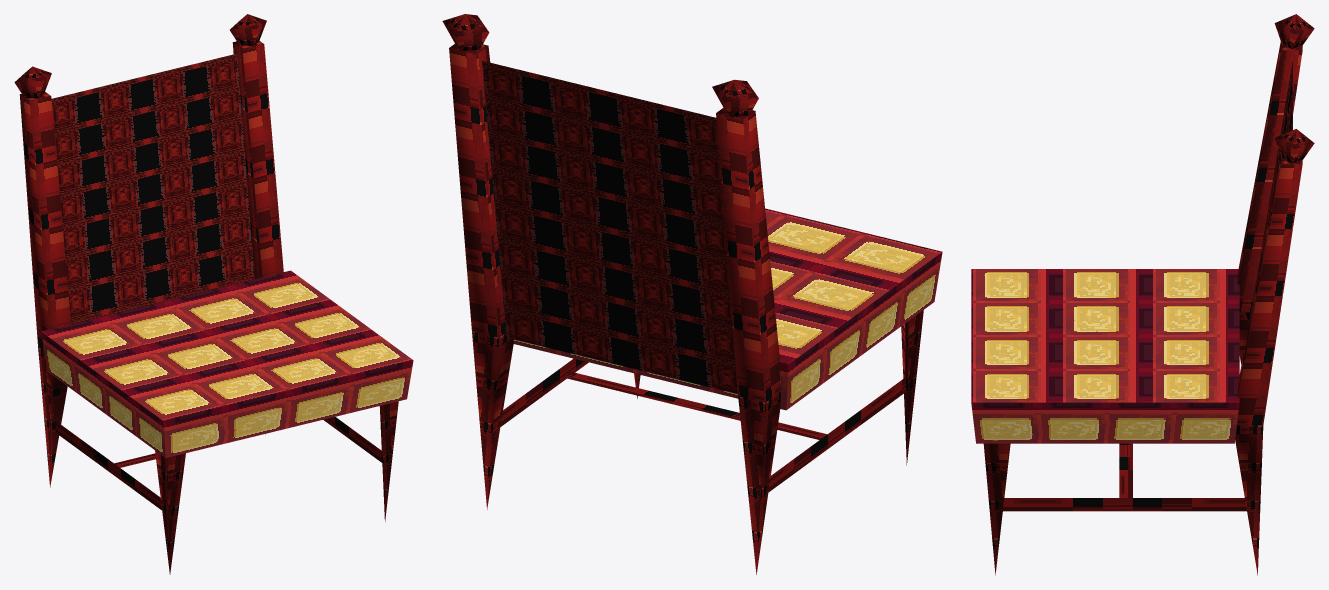
File: 3043IMRL02_04.gltf
The picture shows the model from 3 angles, left to right: view 1: azimuth 30°, elevation 25°; view 2: azimuth 150°, elevation 25°; view 3: azimuth 270°, elevation 25°; orthographic projection. The views are drawn at different scales.
Visible parts, largest first — view 1: 3043IMRL02_04; view 2: 3043IMRL02_04; view 3: 3043IMRL02_04.
Boxes of the visible parts, x1=… form: 3043IMRL02_04: x1=14, y1=14, x2=413, y2=574; 3043IMRL02_04: x1=442, y1=14, x2=942, y2=574; 3043IMRL02_04: x1=971, y1=14, x2=1314, y2=575.
Bounding box in the file's own units: 0.8618 × 1.33 × 0.9275.
3 materials, 3 textured.
